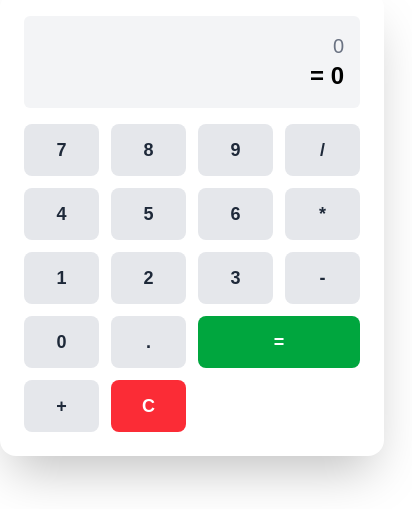
it: Calculator › calculates 2 + 3 = 5
This screenshot has width=412, height=509.
Click the button "2" at (148, 278), box [111,252,186,304]
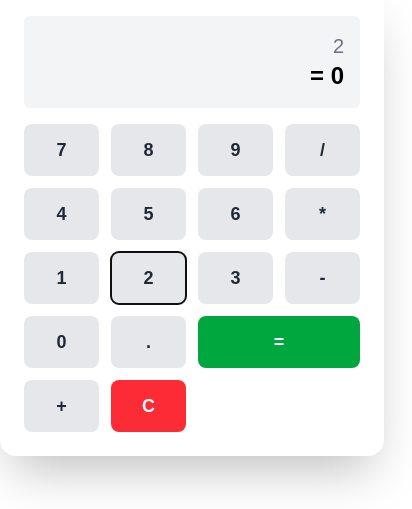
Click the button "+" at (62, 406), box [24,380,99,432]
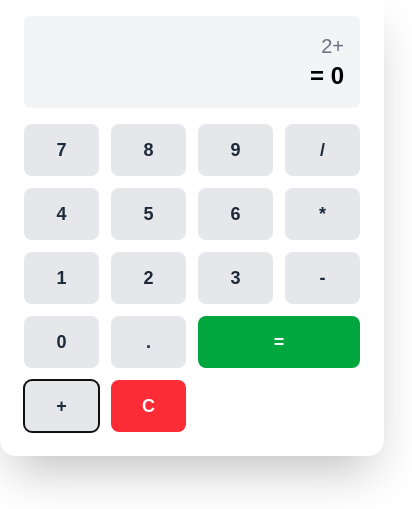
Click the button "3" at (236, 278), box [198,252,273,304]
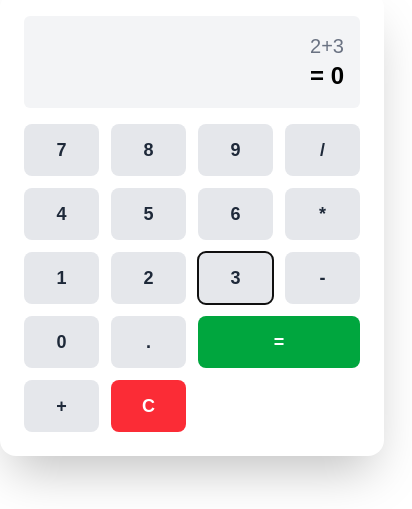
Click the button "=" at (279, 342), box [198,316,360,368]
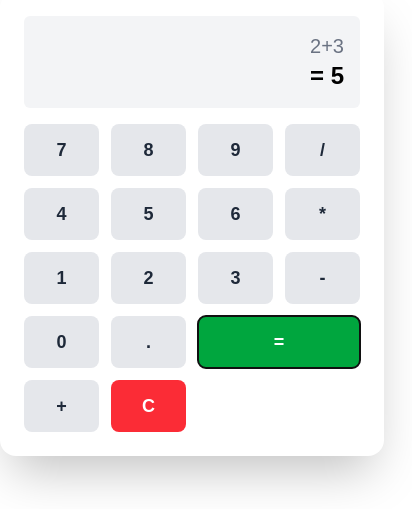
Check: the text "= 5" is shown, box [310,62,344,89]
